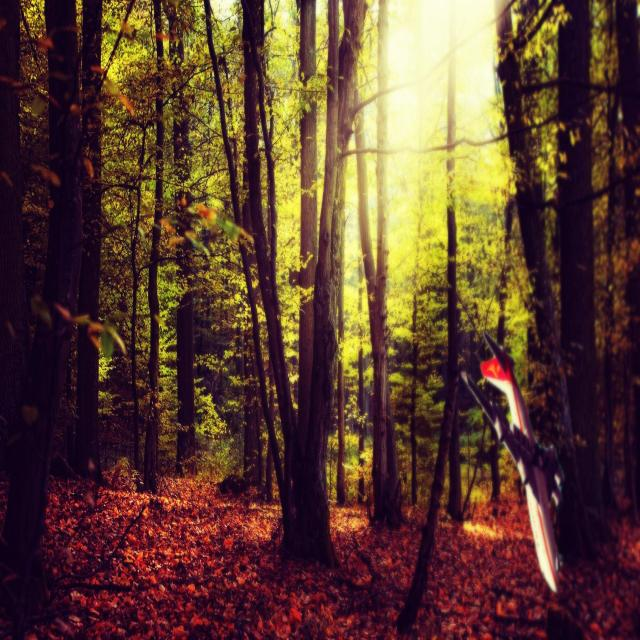airplane: (460, 330, 566, 594)
